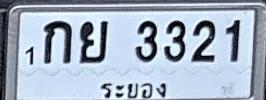1: (225, 19, 240, 62)
2: (191, 19, 215, 62)
3: (135, 20, 157, 62), (164, 20, 186, 62)
A01: (43, 19, 72, 64)
A34: (79, 19, 108, 62)
RYG: (98, 80, 172, 100)
